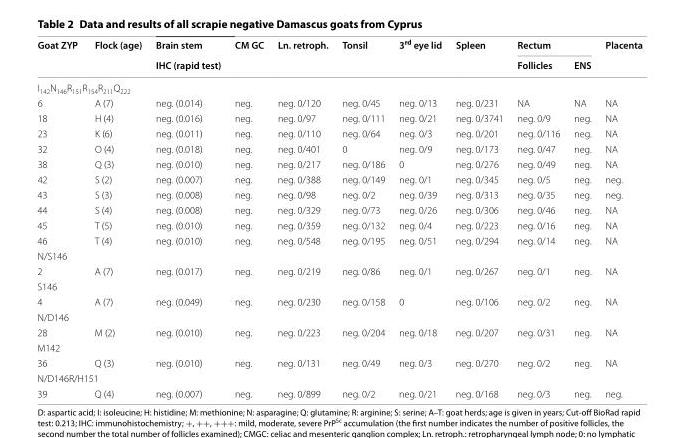table: (36, 36, 642, 398)
table column: (148, 36, 227, 398), (269, 36, 334, 398), (85, 36, 148, 398), (447, 36, 509, 398), (334, 36, 391, 398), (509, 36, 566, 398), (391, 36, 447, 398), (36, 36, 85, 398), (597, 36, 642, 398), (227, 36, 269, 398), (566, 36, 597, 398)
table column header: (36, 36, 642, 75)
table projected row header: (36, 75, 642, 95), (36, 247, 642, 263), (36, 278, 642, 293), (36, 309, 642, 324), (36, 339, 642, 354), (36, 370, 642, 385)
table row: (36, 54, 642, 75), (36, 75, 642, 95), (36, 36, 642, 54), (36, 140, 642, 156), (36, 201, 642, 217), (36, 247, 642, 263), (36, 293, 642, 309), (36, 354, 642, 370), (36, 95, 642, 110), (36, 110, 642, 125), (36, 125, 642, 140), (36, 156, 642, 171), (36, 171, 642, 186), (36, 186, 642, 201), (36, 217, 642, 232), (36, 232, 642, 247), (36, 263, 642, 278), (36, 278, 642, 293), (36, 309, 642, 324), (36, 324, 642, 339), (36, 339, 642, 354), (36, 370, 642, 385), (36, 385, 642, 398)
table spanning cell: (148, 36, 227, 75), (269, 36, 334, 75), (85, 36, 148, 75), (447, 36, 509, 75), (334, 36, 391, 75), (391, 36, 447, 75), (36, 36, 85, 75), (597, 36, 642, 75), (227, 36, 269, 75), (509, 36, 597, 54)
